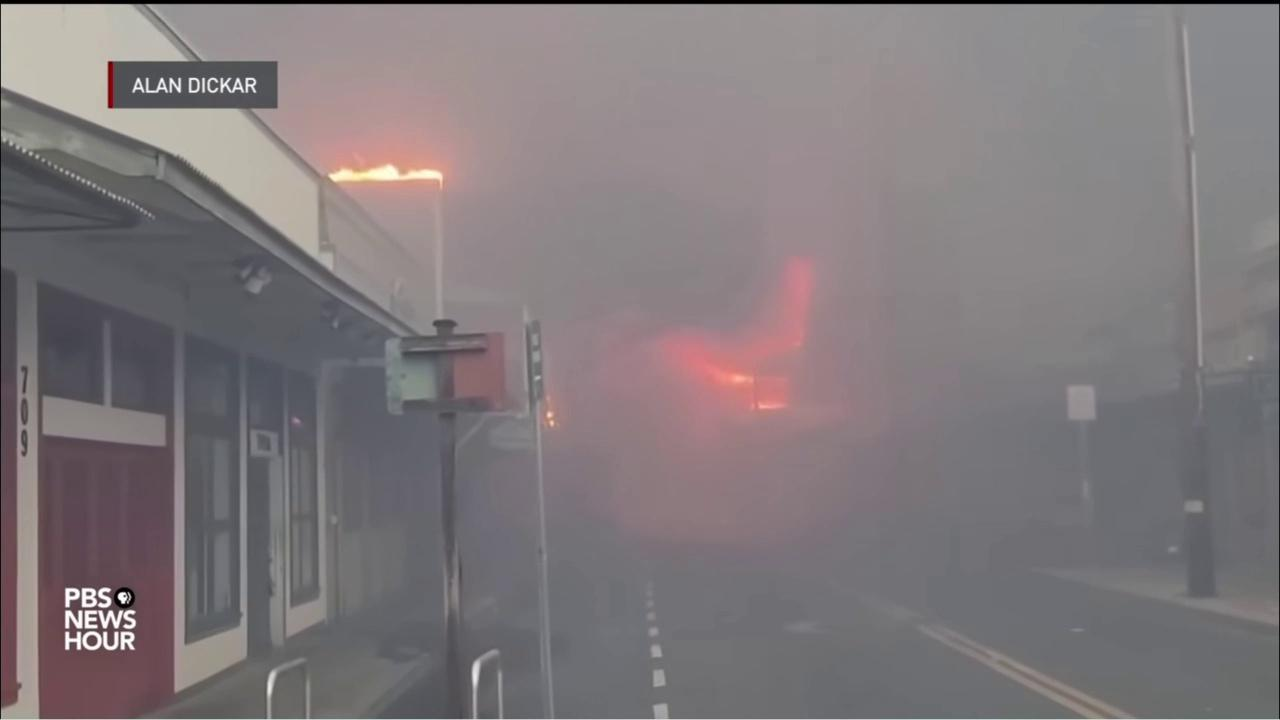fire: (649, 255, 811, 415), (323, 161, 444, 189), (542, 405, 560, 431)
smoke: (1, 4, 1280, 720)
